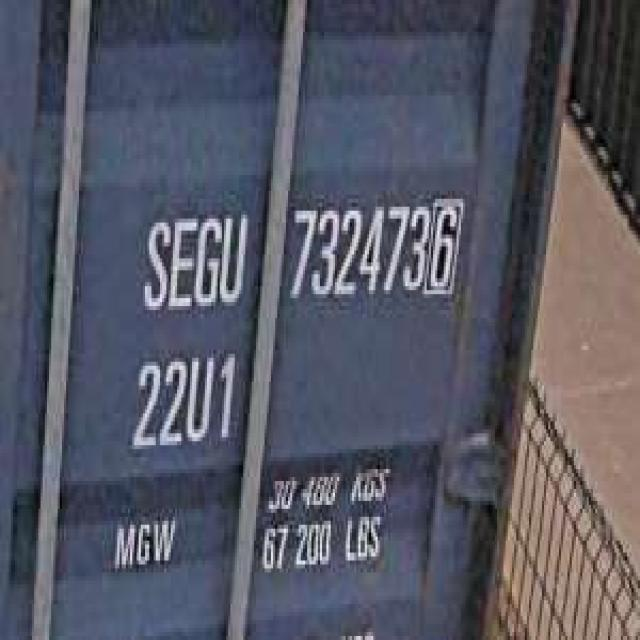dv: (425, 187, 465, 302)
owner: (134, 199, 248, 322)
serial: (286, 187, 431, 310)
size: (126, 342, 239, 457)
